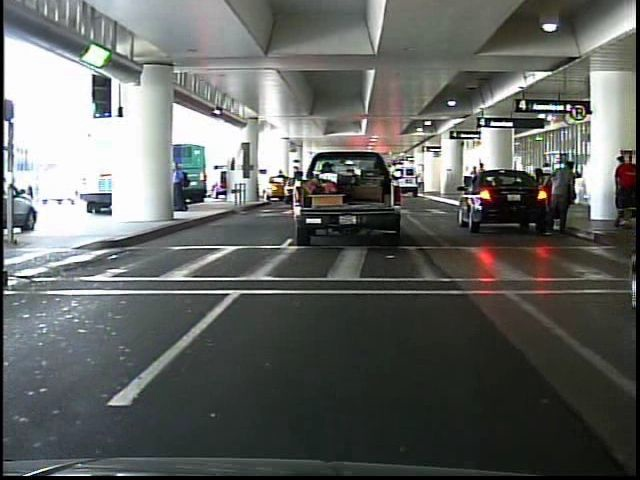person: (539, 149, 580, 240), (609, 150, 636, 208)
